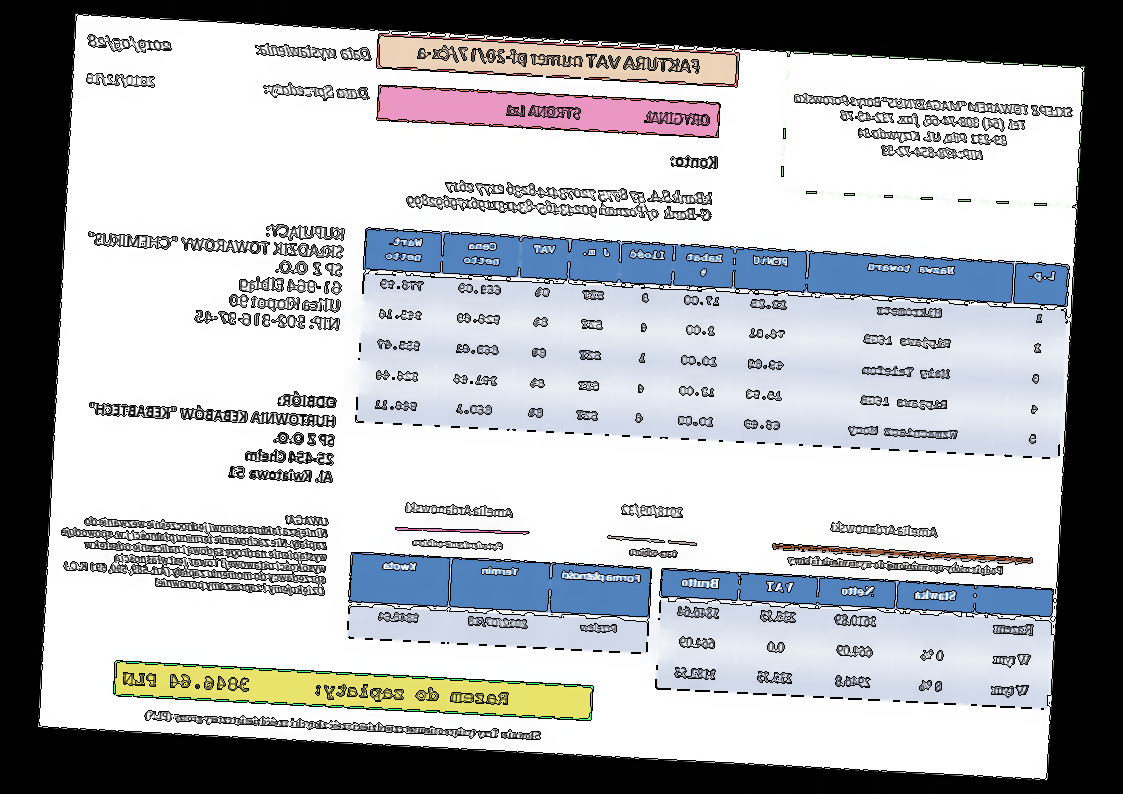Table: (354, 226, 1072, 460), (656, 566, 1056, 710), (346, 551, 653, 655)
TextBox: (81, 211, 348, 333), (83, 379, 339, 486), (57, 501, 331, 597), (790, 89, 1075, 167), (403, 174, 715, 226), (121, 670, 511, 710), (144, 708, 543, 743), (415, 41, 702, 77), (504, 101, 711, 129), (787, 552, 1006, 578), (253, 38, 373, 65), (261, 79, 372, 103), (830, 519, 939, 540), (86, 31, 174, 56), (404, 501, 515, 519), (410, 535, 506, 553), (85, 70, 157, 89), (621, 502, 685, 521), (670, 151, 720, 172), (629, 546, 680, 560)
